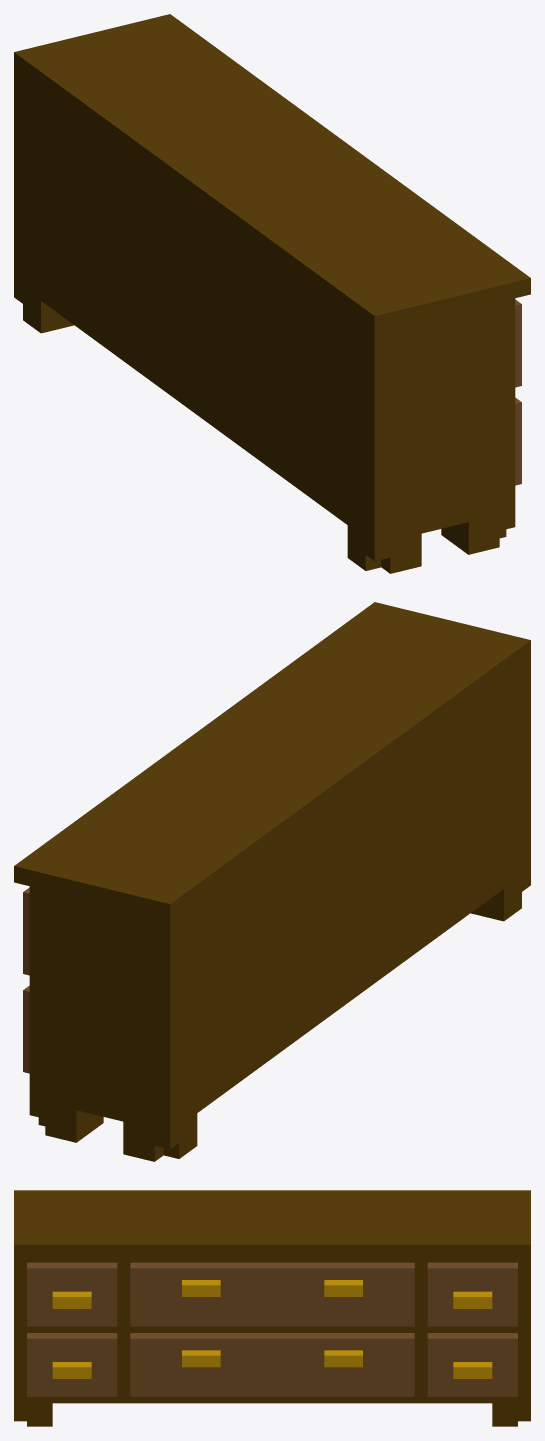
File: F_Dresser.obj
The picture shows the model from 3 angles, top to bottom: view 1: azimuth 30°, elevation 25°; view 2: azimuth 150°, elevation 25°; view 3: azimuth 270°, elevation 25°; orthographic projection. The views are drawn at different scales.
Size of the model in its own units: 1.1 by 1.6 by 4.
1 material, 1 textured.
